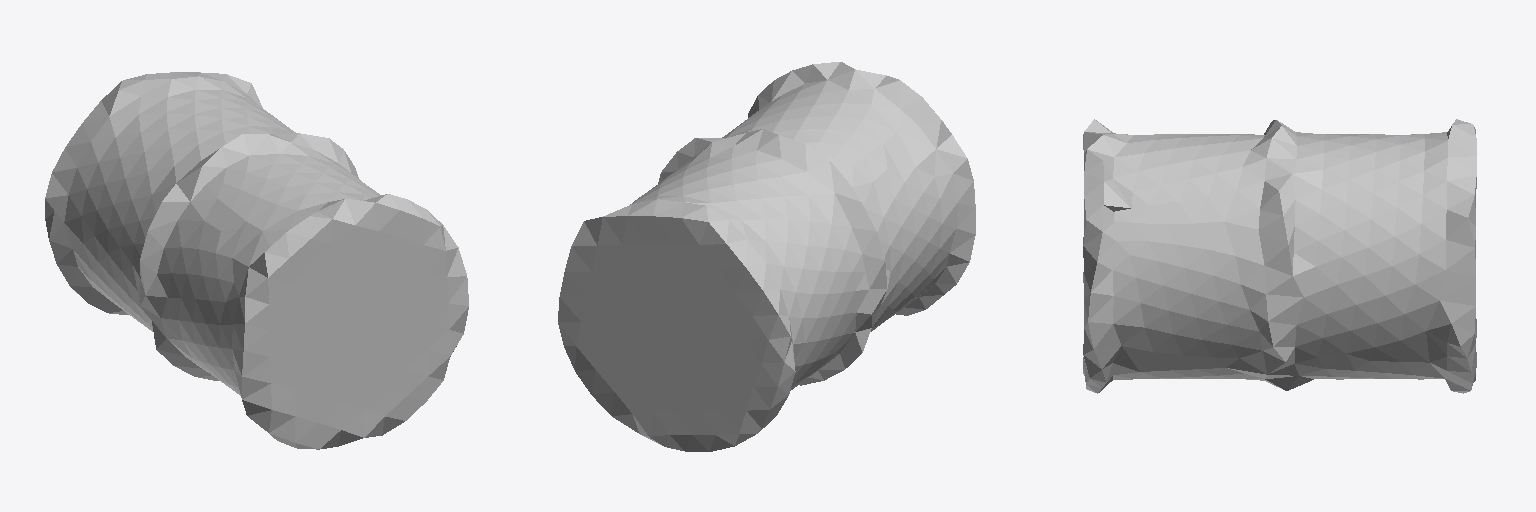
File: Barrel_Green_collision.obj
3 views of the same model, side by side, from view 1: azimuth 30°, elevation 25°; view 2: azimuth 150°, elevation 25°; view 3: azimuth 270°, elevation 25° (orthographic).
Size of the model in its own units: 55.2 by 56.03 by 80.25.